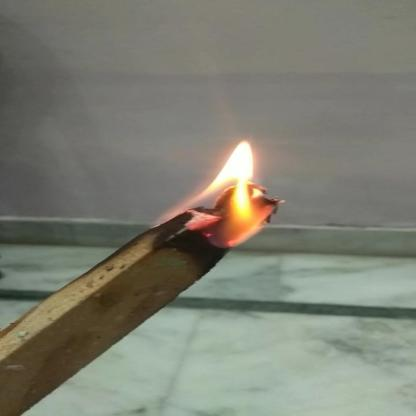fire: (148, 139, 291, 253)
